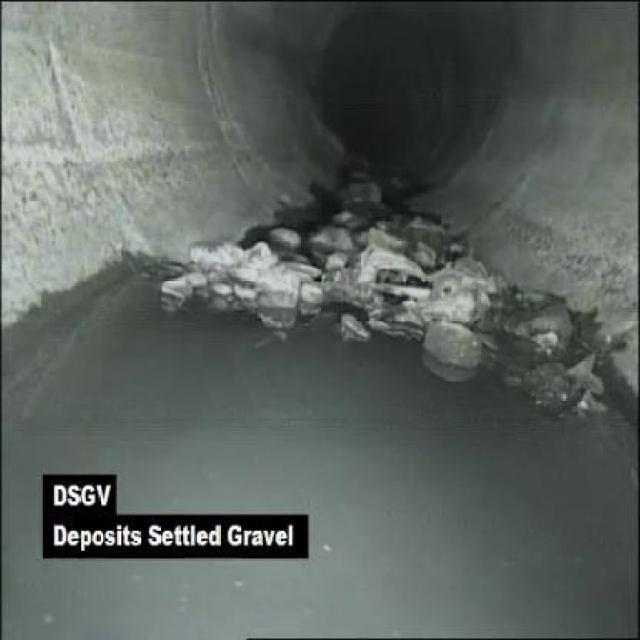Debris: (158, 202, 578, 383)
